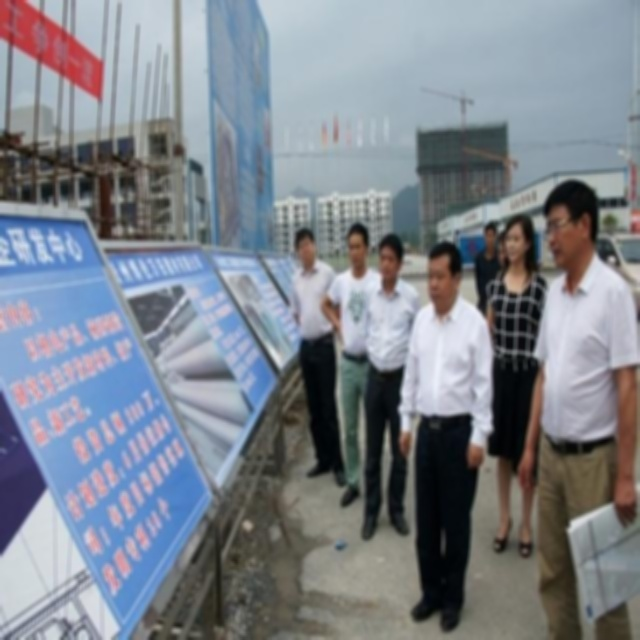Sin_Casco_Mascarrilla: (428, 245, 462, 312), (375, 236, 410, 292)
